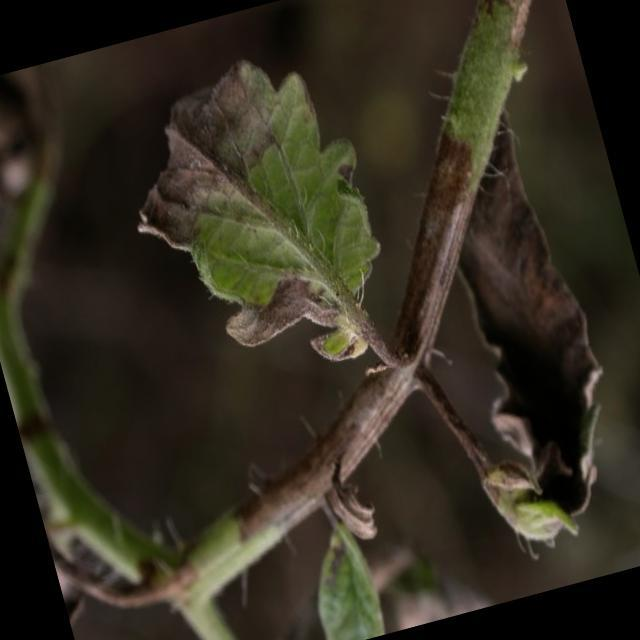Tomato late blight leaf: (98, 20, 415, 398)
